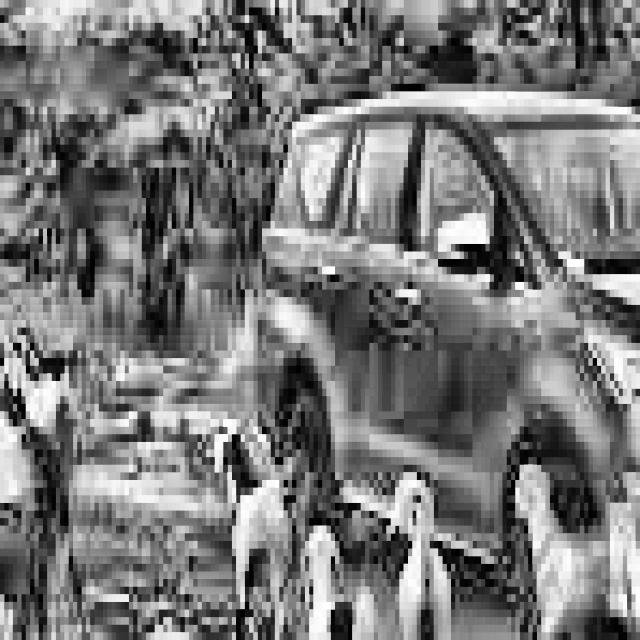light_vehicle: (253, 84, 640, 640)
